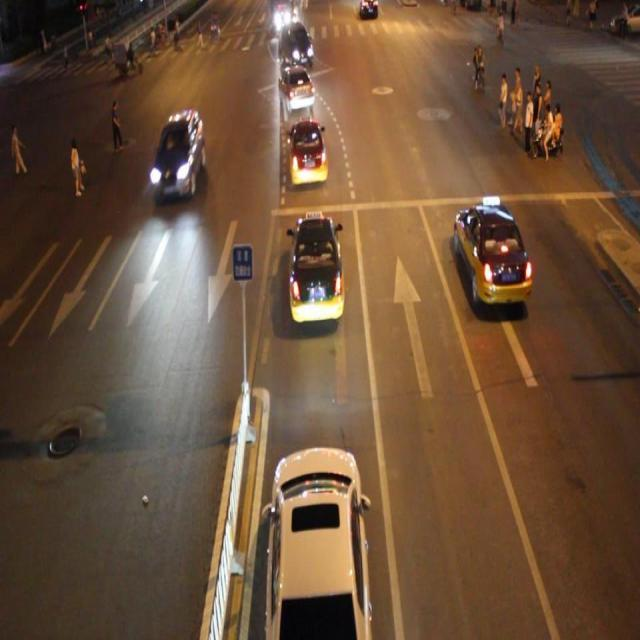car: (268, 445, 378, 640), (450, 196, 532, 308), (281, 213, 348, 337), (150, 114, 206, 201), (281, 120, 330, 184), (276, 20, 317, 72), (274, 68, 314, 105)
